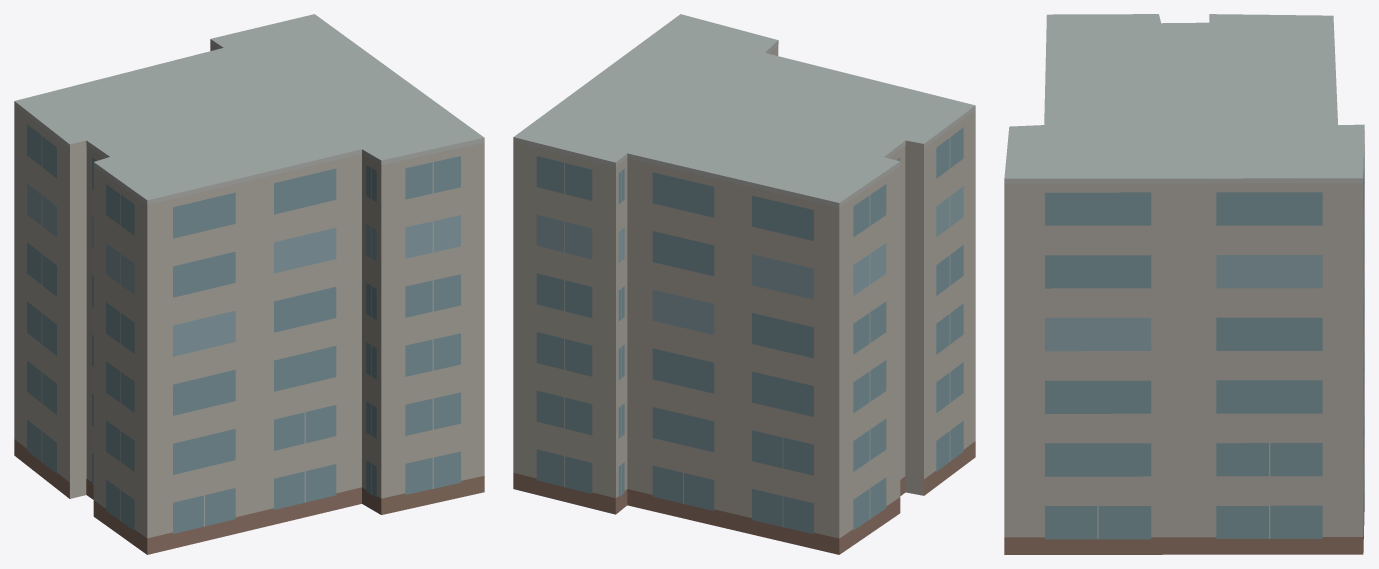
File: survey-upis-32569172.glb
3 renders of one model, left to right at view 1: azimuth 30°, elevation 25°; view 2: azimuth 150°, elevation 25°; view 3: azimuth 270°, elevation 25°, orthographic. The views are drawn at different scales.
Visible parts, largest first — view 1: survey-upis-32569172.tmp; view 2: survey-upis-32569172.tmp; view 3: survey-upis-32569172.tmp.
Part boxes in pixels (x1,y1,x2,y2): survey-upis-32569172.tmp: [14, 14, 484, 554]; survey-upis-32569172.tmp: [513, 14, 975, 554]; survey-upis-32569172.tmp: [1004, 14, 1364, 554].
Size of the model in its own units: 17.29 by 18.4 by 15.98.
